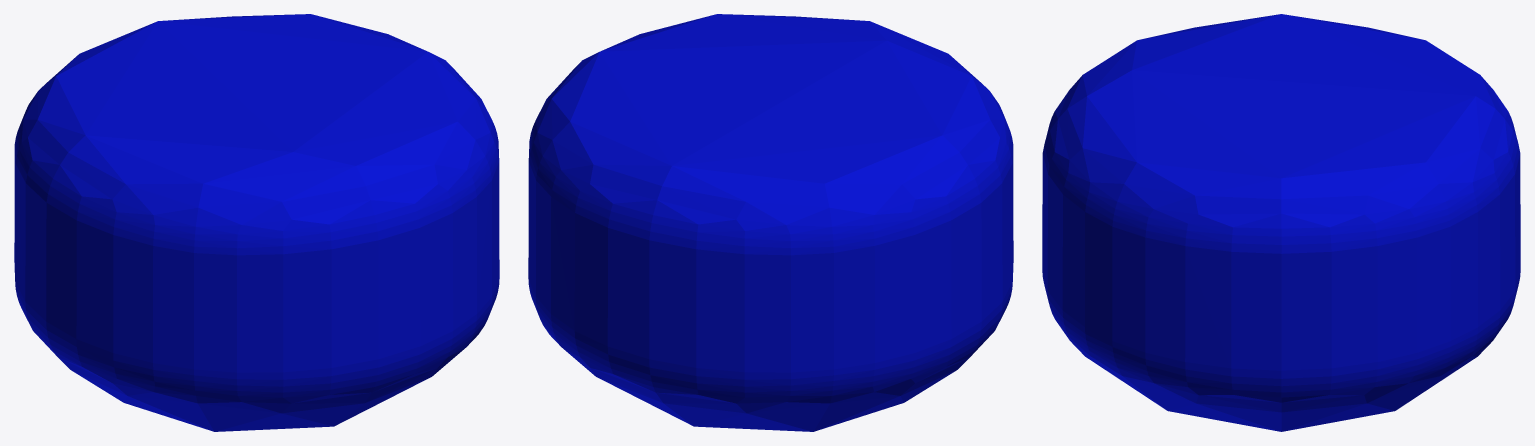
The model's file is COL_hollie_real.006.dae.
3 views of the same model, side by side, from view 1: azimuth 30°, elevation 25°; view 2: azimuth 150°, elevation 25°; view 3: azimuth 270°, elevation 25° (orthographic).
Parts seen in each view (by area): view 1: COL_COL_COL_VIS_VIS_VIS_VIS_VIS_VIS_VIS_VIS_VIS_hollie_real_; view 2: COL_COL_COL_VIS_VIS_VIS_VIS_VIS_VIS_VIS_VIS_VIS_hollie_real_; view 3: COL_COL_COL_VIS_VIS_VIS_VIS_VIS_VIS_VIS_VIS_VIS_hollie_real_.
Part boxes in pixels (<box>): COL_COL_COL_VIS_VIS_VIS_VIS_VIS_VIS_VIS_VIS_VIS_hollie_real_: <box>14,14,499,431</box>; COL_COL_COL_VIS_VIS_VIS_VIS_VIS_VIS_VIS_VIS_VIS_hollie_real_: <box>528,14,1013,431</box>; COL_COL_COL_VIS_VIS_VIS_VIS_VIS_VIS_VIS_VIS_VIS_hollie_real_: <box>1042,14,1520,431</box>.
Size of the model in its own units: 0.1299 by 0.13 by 0.0855.
